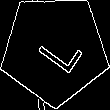L_NW: (26, 22, 83, 77)
